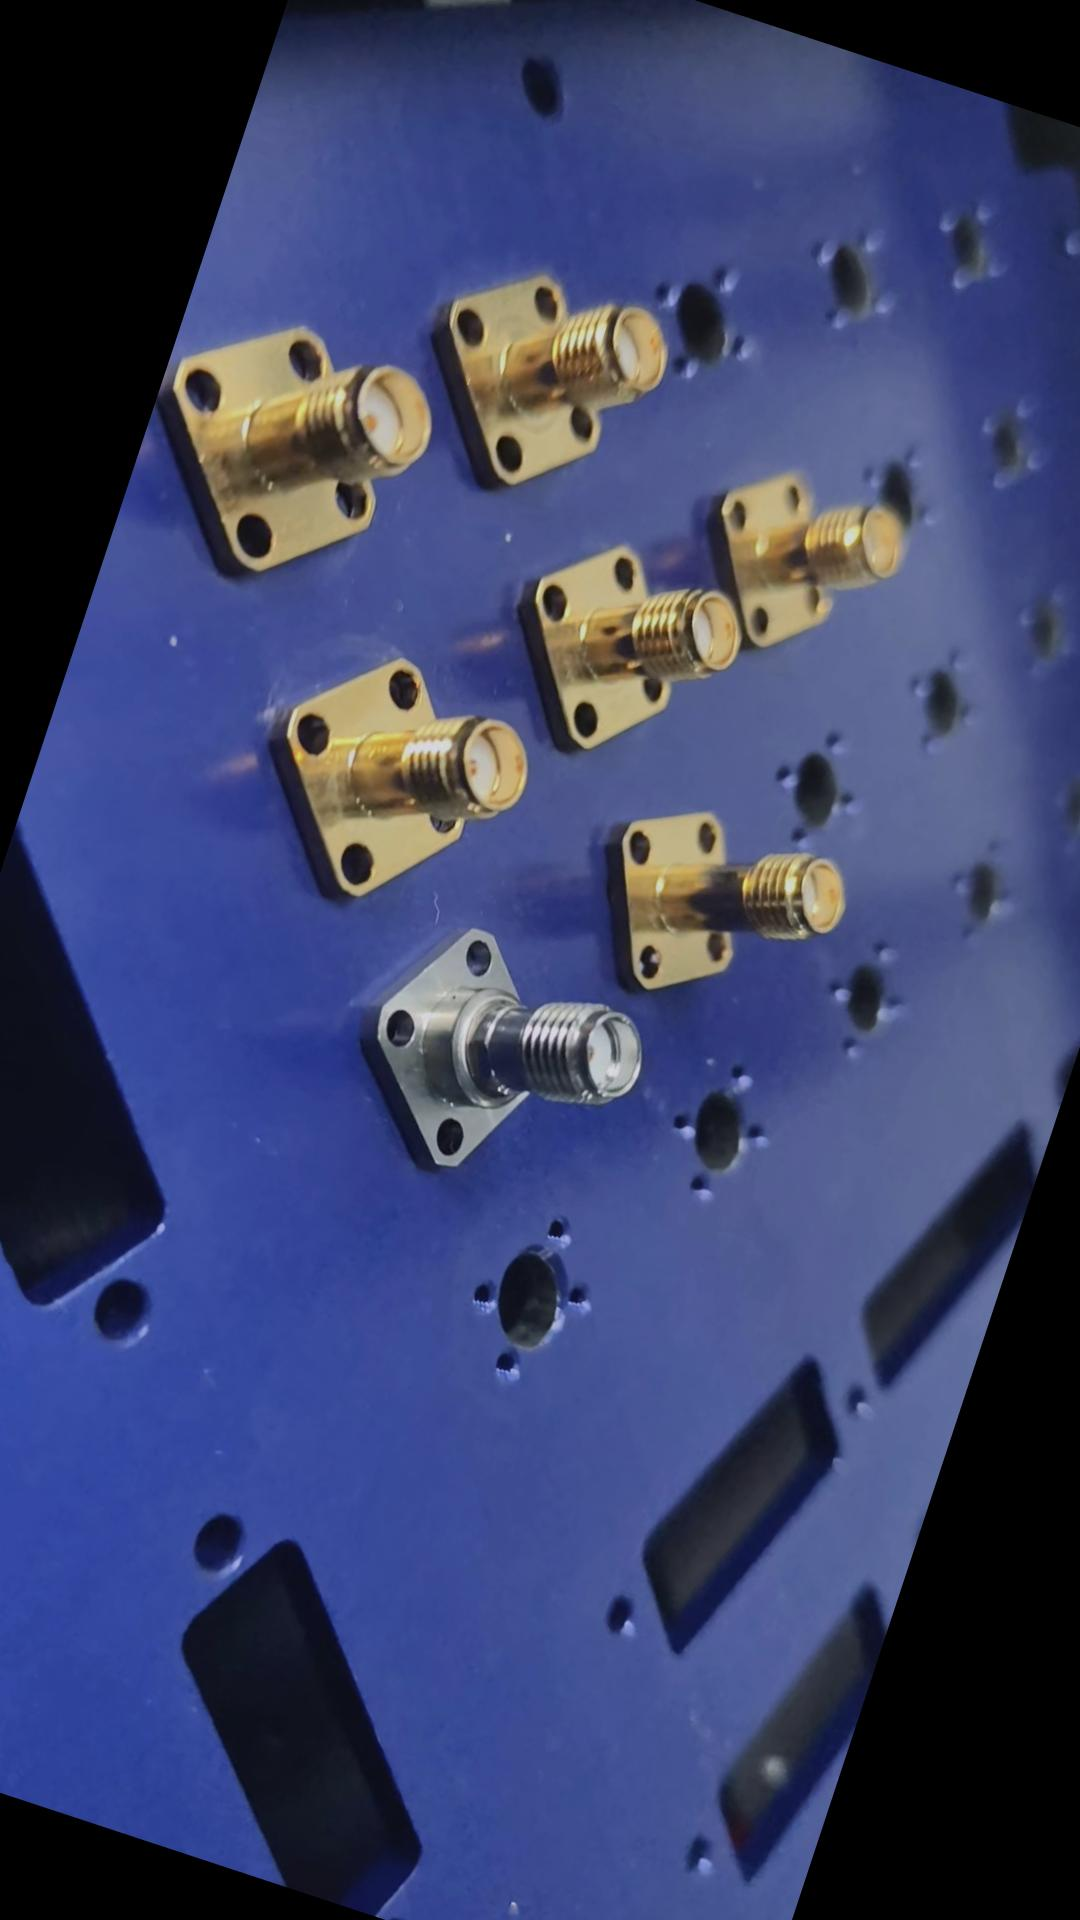SMA: (119, 284, 469, 622), (331, 886, 676, 1216), (229, 612, 553, 938), (396, 225, 686, 527), (579, 771, 873, 1046), (487, 497, 746, 781), (676, 442, 928, 694)
